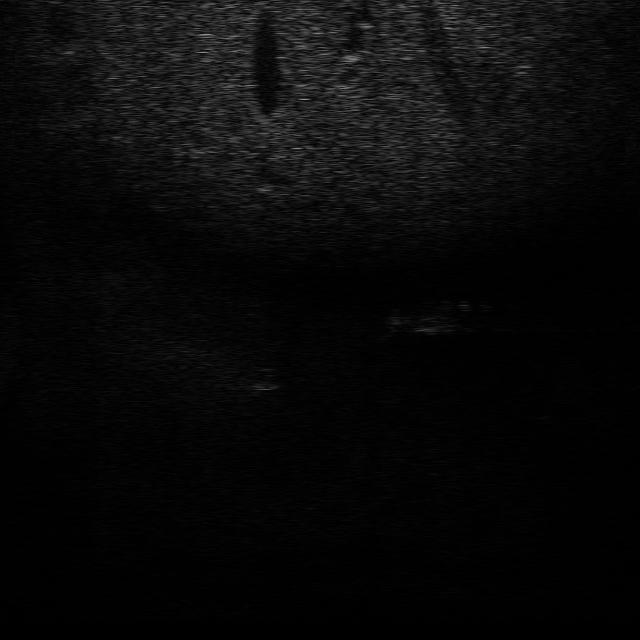ball: (247, 362, 285, 390)
human body: (382, 293, 472, 338)
